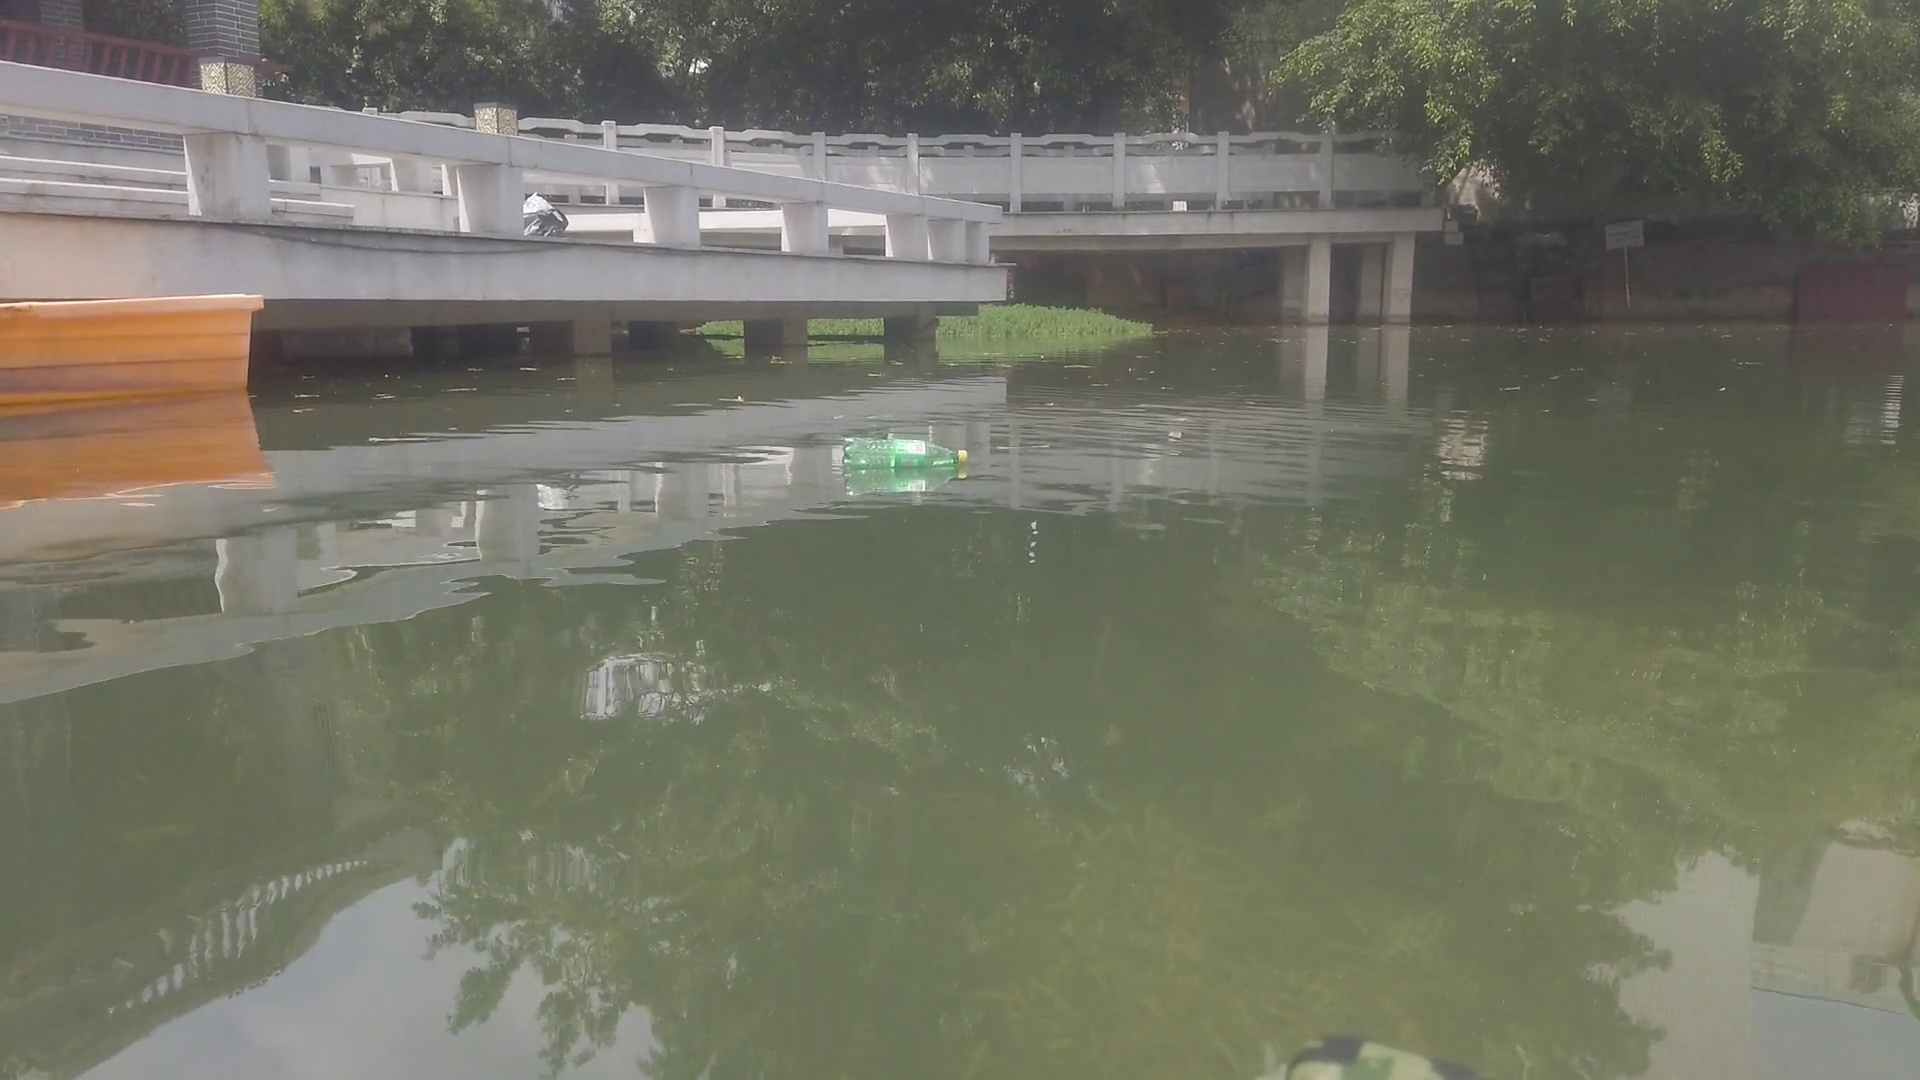bottle: (840, 433, 973, 471)
